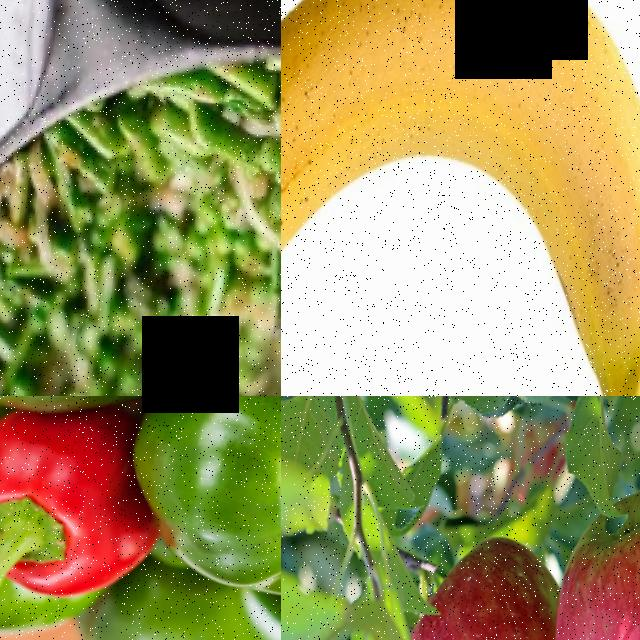apple: (363, 510, 583, 640), (504, 465, 640, 640)
banana: (281, 0, 640, 396)
bell pepper: (154, 396, 281, 632), (0, 417, 141, 628)
